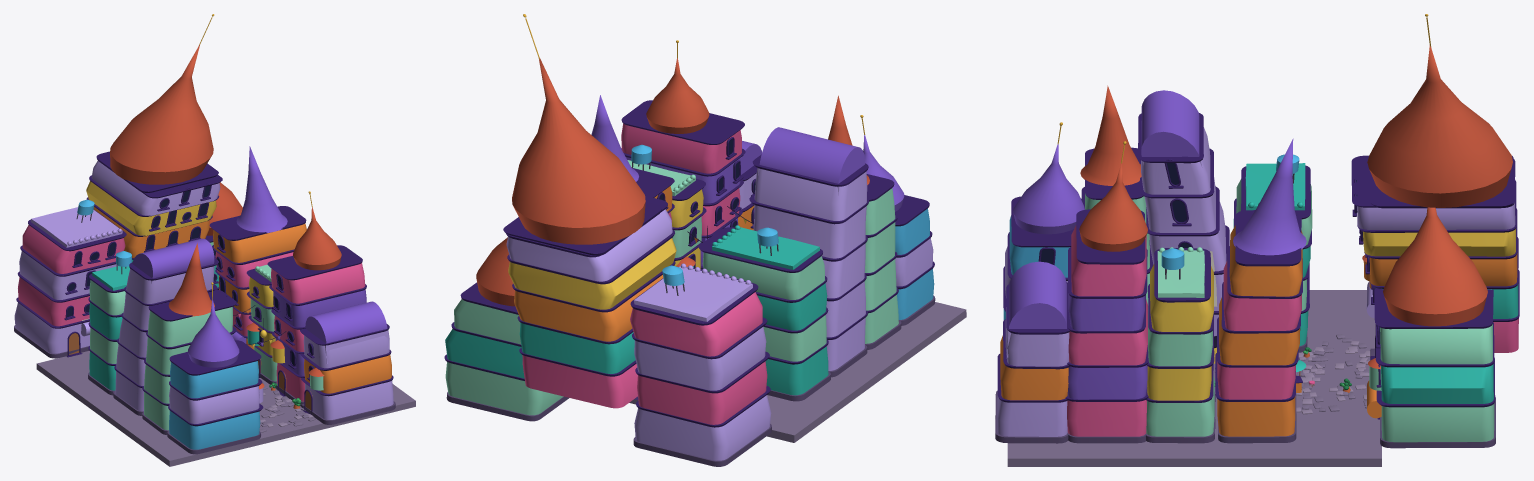
Rendered from doodle.glb.
3 views of the same model, side by side, from view 1: azimuth 30°, elevation 25°; view 2: azimuth 150°, elevation 25°; view 3: azimuth 270°, elevation 25° (orthographic). The views are drawn at different scales.
Parts seen in each view (by area): view 1: shop_front, flank_l, lane_l3, lane_r3, lane_r2, ground, lane_r0, lane_l1, lane_l2, lane_l0, lane_r1, flank_r; view 2: shop_front, flank_l, lane_l1, lane_l0, flank_r, lane_r2, ground, lane_l2, lane_l3, lane_r1, lane_r0, lane_r3; view 3: shop_front, flank_r, lane_r0, ground, lane_r2, lane_r1, lane_r3, lane_l1, lane_l3, lane_l2, lane_l0.
Boxes of the visible parts, <box> form: shop_front: <box>86,14,222,262</box>; flank_l: <box>14,199,126,358</box>; lane_l3: <box>167,282,264,454</box>; lane_r3: <box>300,301,395,424</box>; lane_r2: <box>267,191,366,405</box>; ground: <box>36,350,415,466</box>; lane_r0: <box>209,146,306,349</box>; lane_l1: <box>113,238,218,415</box>; lane_l2: <box>142,243,236,434</box>; lane_l0: <box>88,251,131,395</box>; lane_r1: <box>246,264,277,384</box>; flank_r: <box>205,182,242,289</box>; shop_front: <box>503,14,676,408</box>; flank_l: <box>630,263,771,466</box>; lane_l1: <box>749,127,868,377</box>; lane_l0: <box>698,225,830,401</box>; flank_r: <box>444,237,568,421</box>; lane_r2: <box>621,40,745,268</box>; ground: <box>629,302,966,442</box>; lane_l2: <box>828,95,901,349</box>; lane_l3: <box>860,115,935,325</box>; lane_r1: <box>627,144,706,269</box>; lane_r0: <box>591,95,674,222</box>; lane_r3: <box>738,141,761,230</box>; shop_front: <box>1351,14,1519,360</box>; flank_r: <box>1367,207,1495,448</box>; lane_r0: <box>1215,138,1306,443</box>; ground: <box>1007,290,1381,466</box>; lane_r2: <box>1065,141,1148,443</box>; lane_r1: <box>1145,247,1215,443</box>; lane_r3: <box>995,261,1070,443</box>; lane_l1: <box>1138,90,1229,336</box>; lane_l3: <box>1003,122,1084,319</box>; lane_l2: <box>1080,85,1153,305</box>; lane_l0: <box>1233,154,1312,352</box>.
Bounding box in the file's own units: 32.01 × 36.84 × 42.03.
